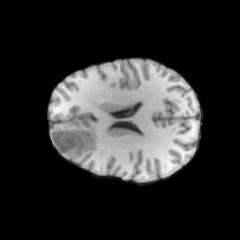glioma: (51, 122, 95, 156)
